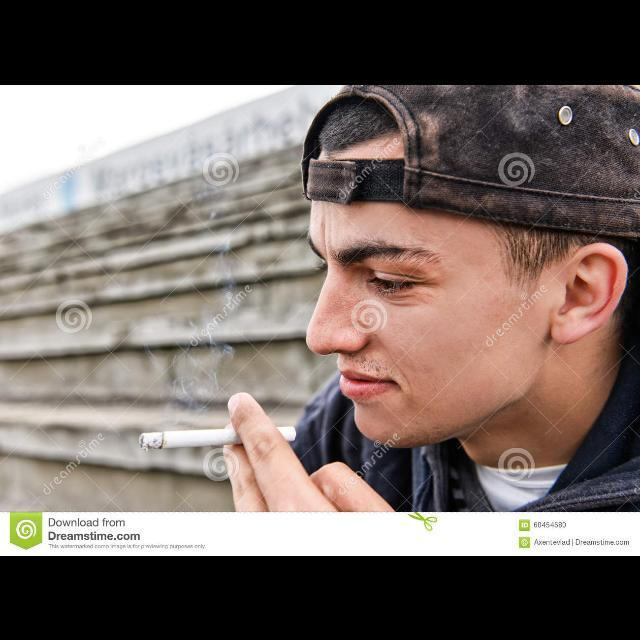rokok: (137, 424, 299, 451)
